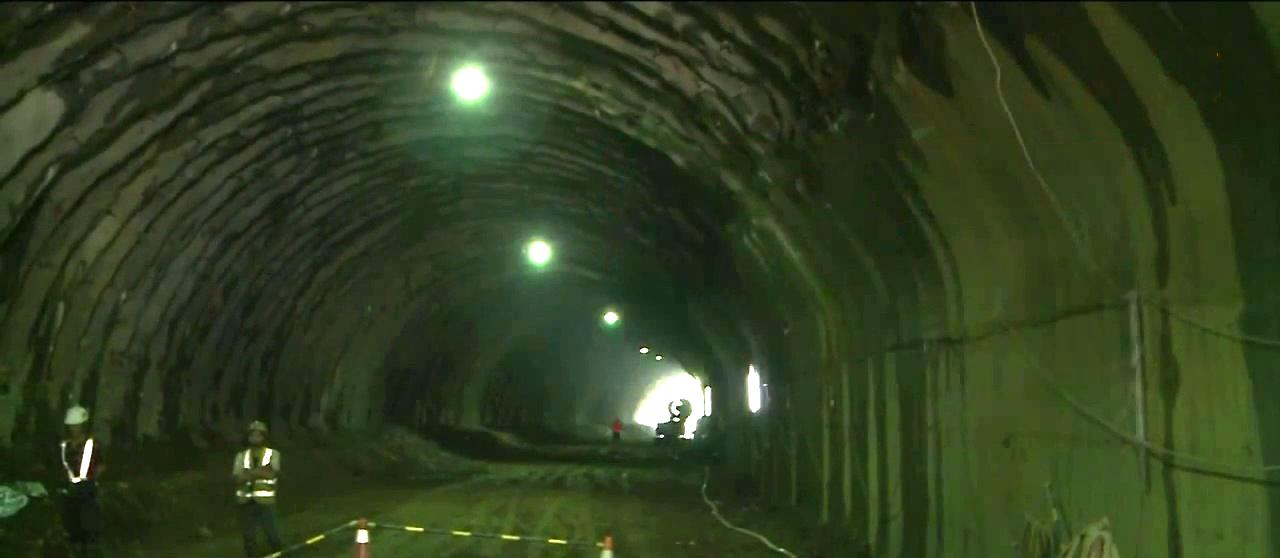helmet: (63, 404, 89, 439), (245, 419, 268, 445)
